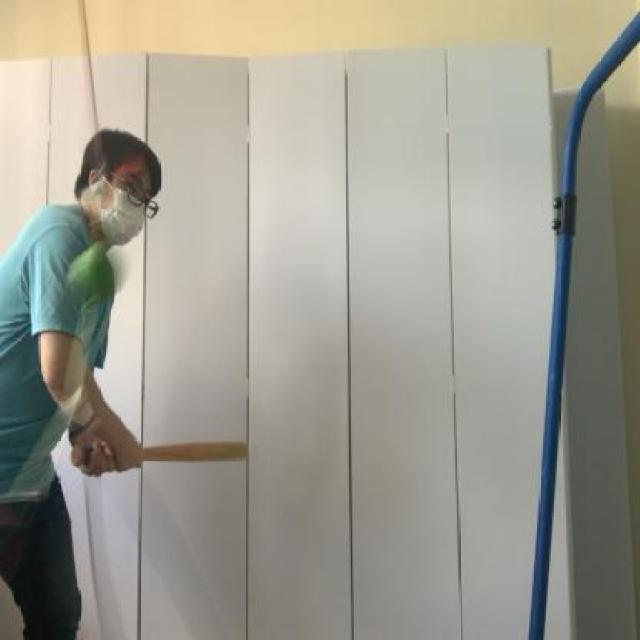baseball: (69, 220, 125, 306)
